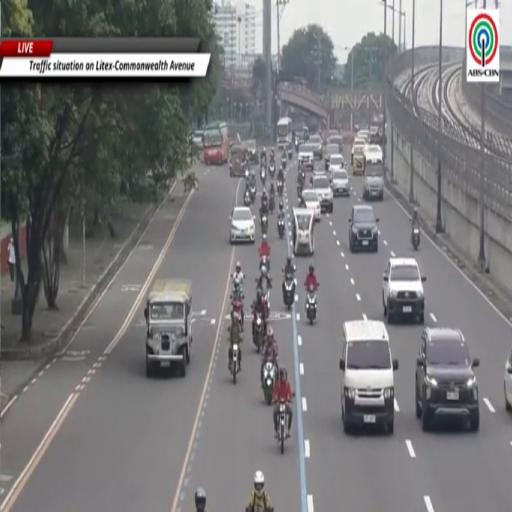bus: (203, 122, 229, 165), (276, 116, 292, 150)
car: (340, 320, 398, 434), (415, 328, 479, 431), (383, 258, 426, 323), (349, 204, 379, 252), (230, 206, 255, 244), (311, 174, 333, 213), (301, 189, 321, 220), (331, 169, 350, 196), (351, 139, 365, 174), (298, 144, 314, 171), (504, 351, 511, 411), (243, 140, 259, 164), (325, 144, 339, 170), (309, 135, 323, 159), (310, 168, 328, 186), (328, 154, 345, 172), (328, 135, 342, 153), (370, 126, 381, 145), (357, 130, 369, 142)
jeepney: (144, 279, 193, 377), (292, 207, 315, 255), (230, 144, 247, 177), (352, 146, 364, 175)
motorcycle: (262, 361, 276, 405), (278, 402, 289, 454), (282, 273, 296, 310), (306, 285, 318, 325), (231, 295, 244, 331), (253, 314, 264, 351), (230, 344, 240, 383), (259, 285, 270, 319), (262, 288, 269, 318), (411, 228, 420, 250), (259, 255, 269, 273), (278, 217, 285, 239), (261, 214, 268, 235), (248, 184, 256, 202), (244, 189, 251, 206), (269, 195, 275, 214), (269, 162, 275, 180), (277, 181, 283, 197), (261, 167, 266, 185), (260, 153, 266, 167), (297, 184, 302, 198), (295, 139, 299, 153), (282, 156, 286, 169), (288, 148, 292, 159)
